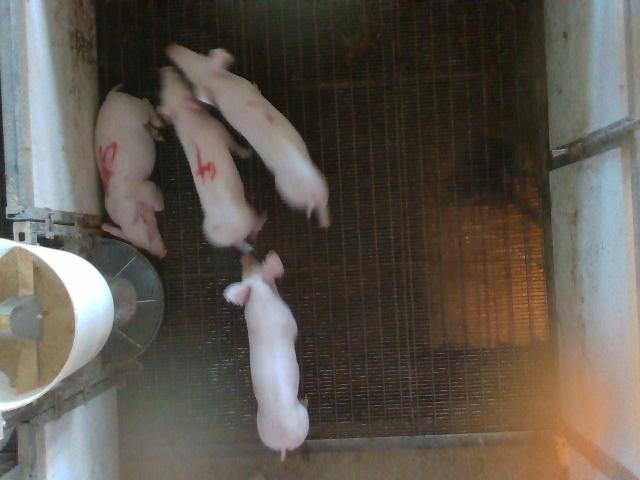pig-2: (166, 44, 330, 227)
pig-4: (159, 66, 262, 248)
pig-5: (95, 89, 166, 258)
